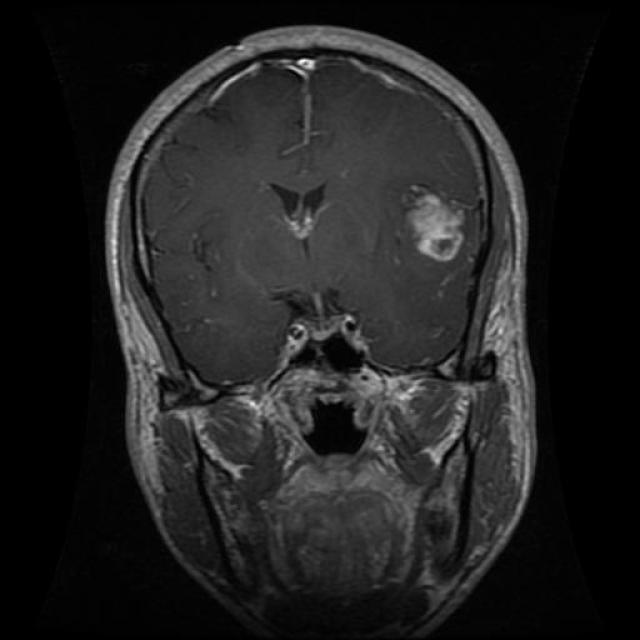glioma: (400, 176, 481, 269)
